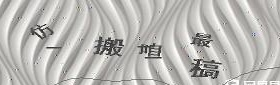chinese: (90, 34, 125, 58), (188, 56, 221, 80), (26, 23, 60, 44), (136, 40, 165, 61), (190, 29, 213, 46)
